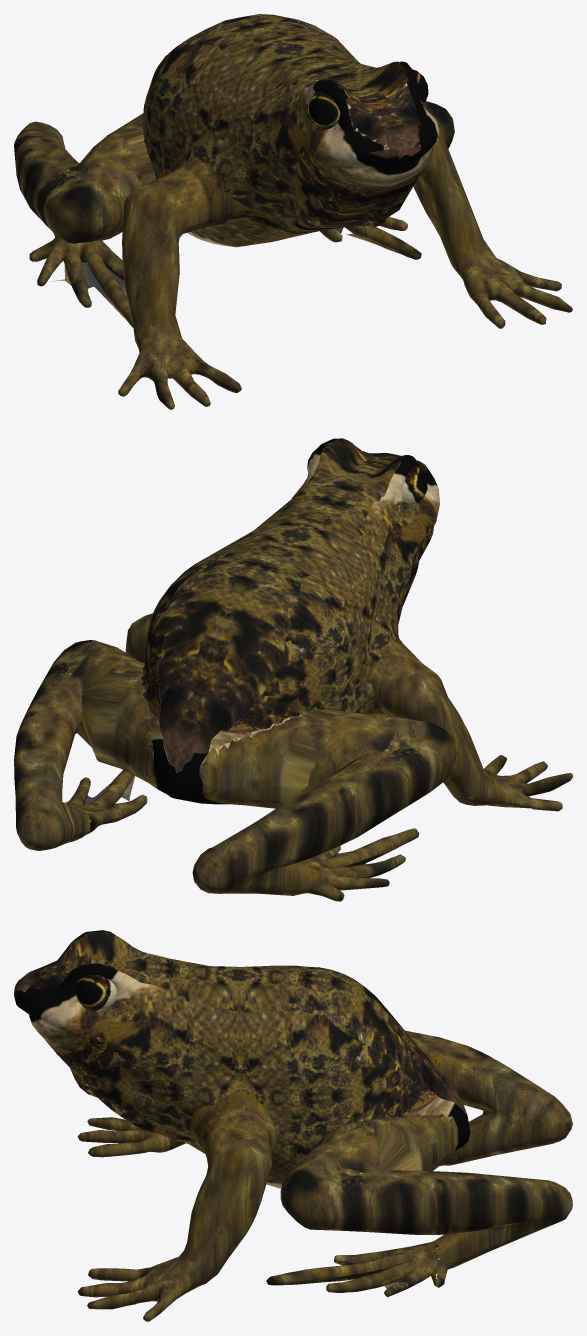
File: Frog-rigid.FBX
3 views of the same model, one above another, from view 1: azimuth 30°, elevation 25°; view 2: azimuth 150°, elevation 25°; view 3: azimuth 270°, elevation 25° (orthographic). The views are drawn at different scales.
Parts seen in each view (by area): view 1: Body, Head, RightBackLeg, RightFrontLeg, LeftFrontLeg, LeftBackLeg; view 2: Body, RightBackLeg, LeftBackLeg, Head, RightFrontLeg, LeftFrontLeg; view 3: Body, LeftBackLeg, Head, LeftFrontLeg, RightBackLeg, RightFrontLeg.
Boxes of the visible parts, x1,y1,x2,y2 form: Body: (107, 14, 359, 247); Head: (267, 61, 439, 227); RightBackLeg: (14, 121, 155, 327); RightFrontLeg: (118, 166, 241, 409); LeftFrontLeg: (413, 129, 572, 328); LeftBackLeg: (320, 101, 454, 259); Body: (82, 499, 410, 808); RightBackLeg: (192, 708, 456, 901); LeftBackLeg: (14, 640, 160, 850); Head: (280, 438, 439, 606); RightFrontLeg: (373, 651, 572, 811); LeftFrontLeg: (125, 613, 152, 663); Body: (135, 960, 470, 1188); LeftBackLeg: (266, 1121, 572, 1297); Head: (14, 930, 178, 1124); LeftFrontLeg: (77, 1114, 272, 1321); RightBackLeg: (363, 1030, 572, 1165); RightFrontLeg: (77, 1117, 185, 1157).
Size of the model in its own units: 8.72 by 5.47 by 10.1.
6 materials, 6 textured.
